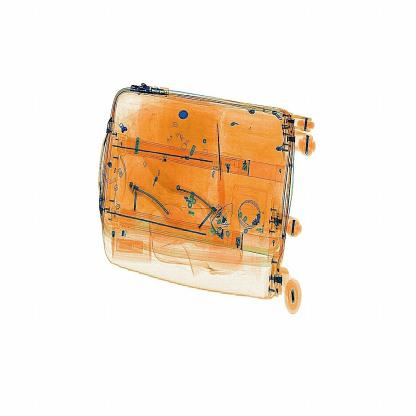wrench: (214, 121, 227, 212)
